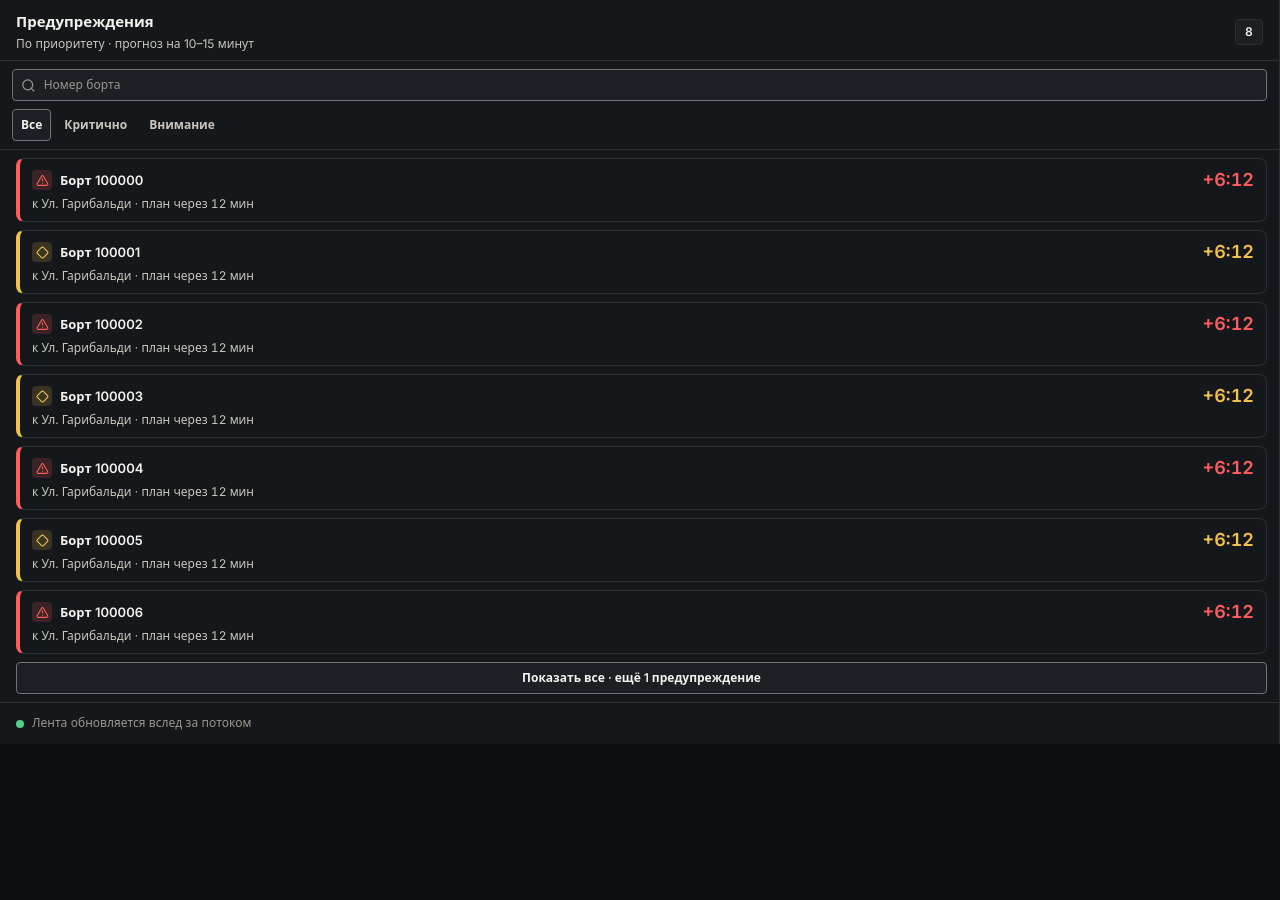
AlertList › «Показать все» reports its state and the item has no internal id
What coordinates should you click on to do the following:
click the button "Показать все · ещё 1 предупреждение"
I would click on:
 (642, 678)
Its box is [16, 662, 1267, 694].
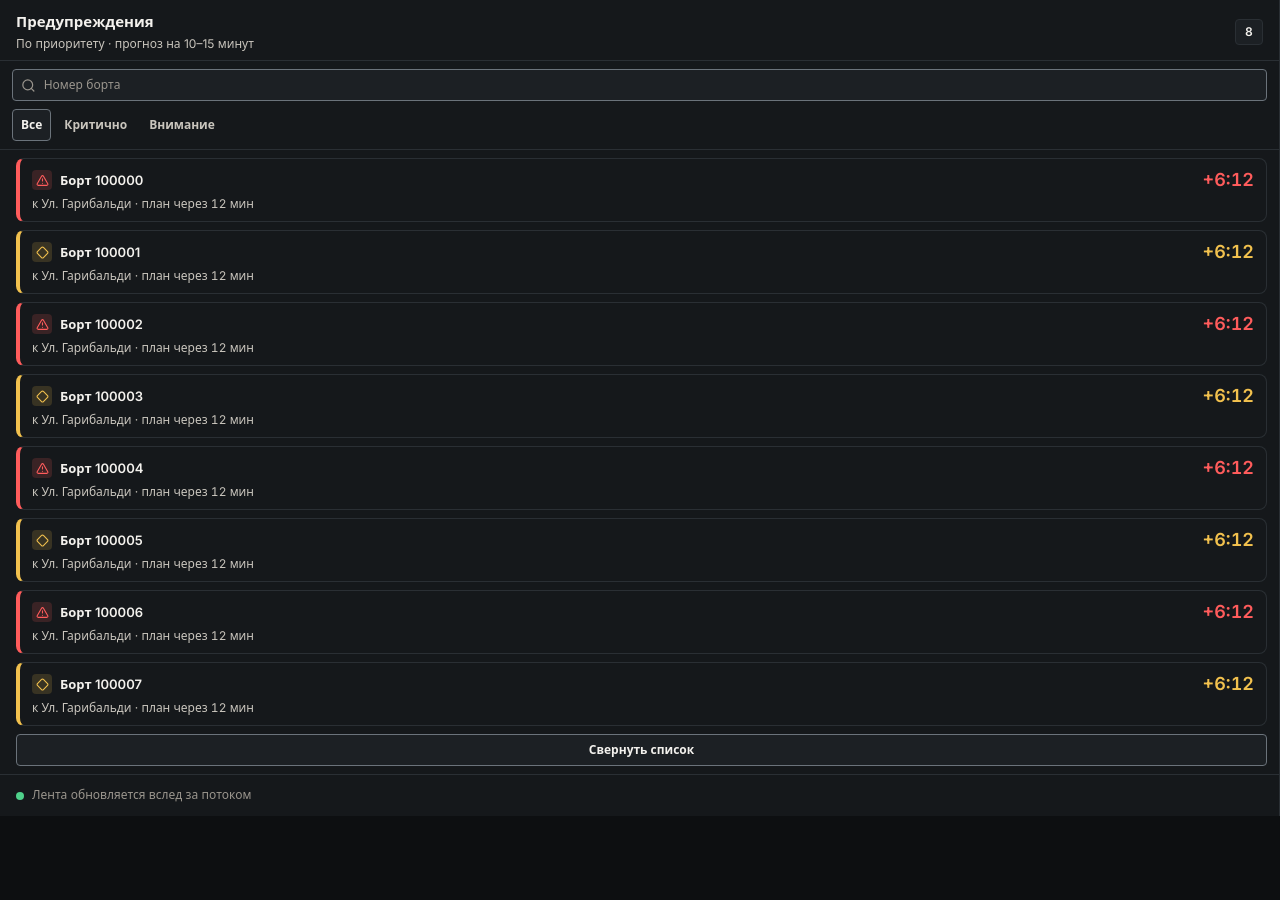
Now the button "Свернуть список" is expanded, box [16, 734, 1267, 766]
